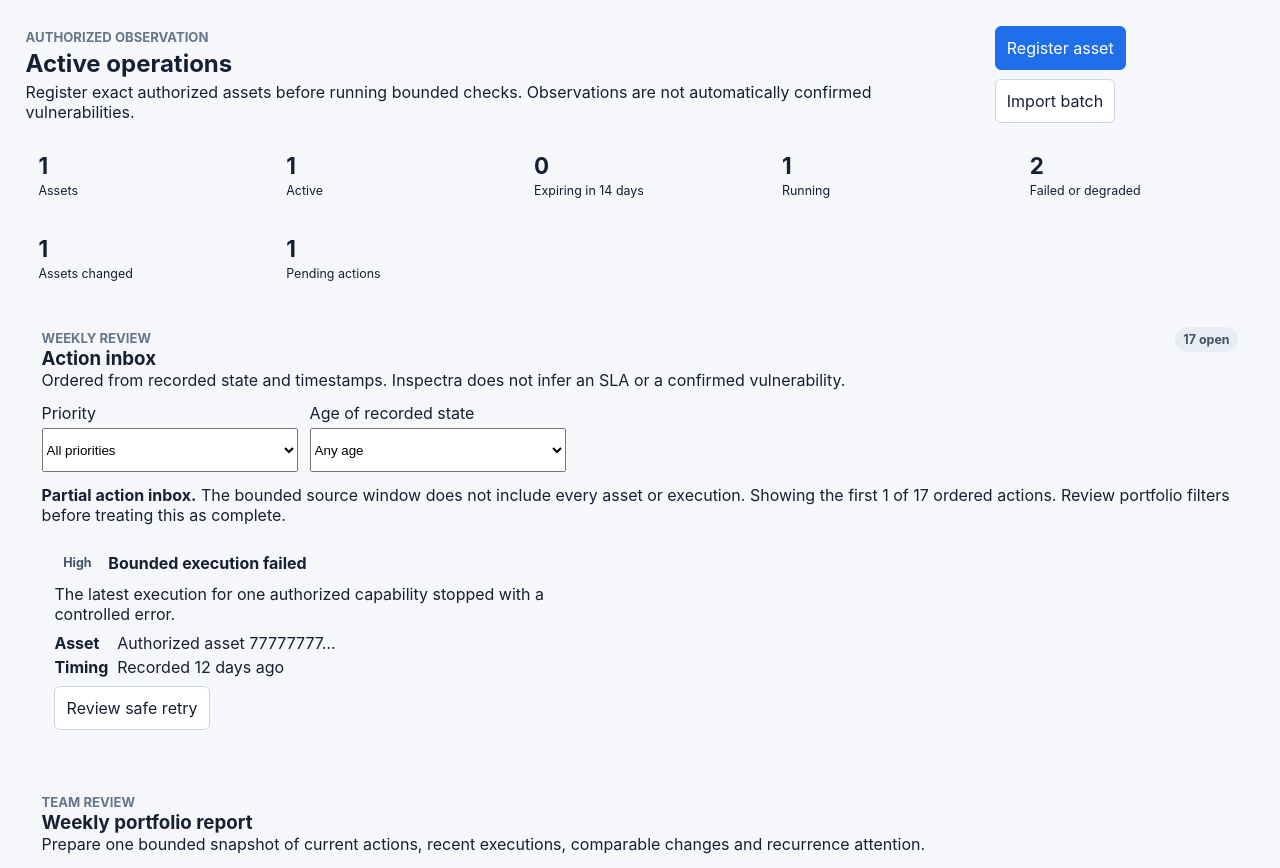
Test: ActiveOperationsCenter › loads a filtered-out action asset through the scoped detail endpoint and reports partial source state
Expected: the text "Partial action inbox." is shown, [42, 485, 196, 505]
Expected: the text "Showing the first 1 of 17 ordered actions" is shown, [750, 485, 1056, 505]
Click the button "Review safe retry": [132, 708] box [54, 686, 210, 730]
(page scrolled)
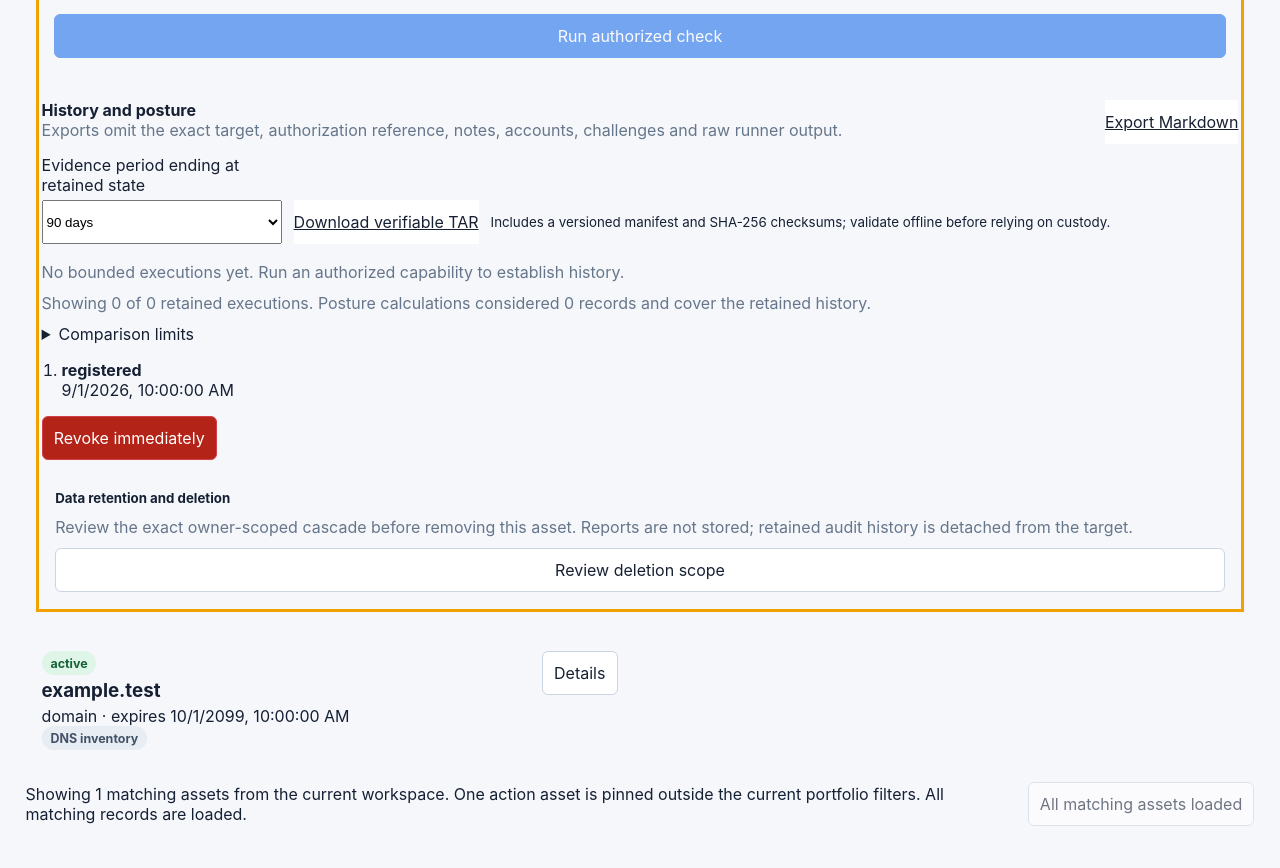
Expected: the text "One action asset is pinned outside the current portfolio filters" is shown, [449, 784, 921, 804]
